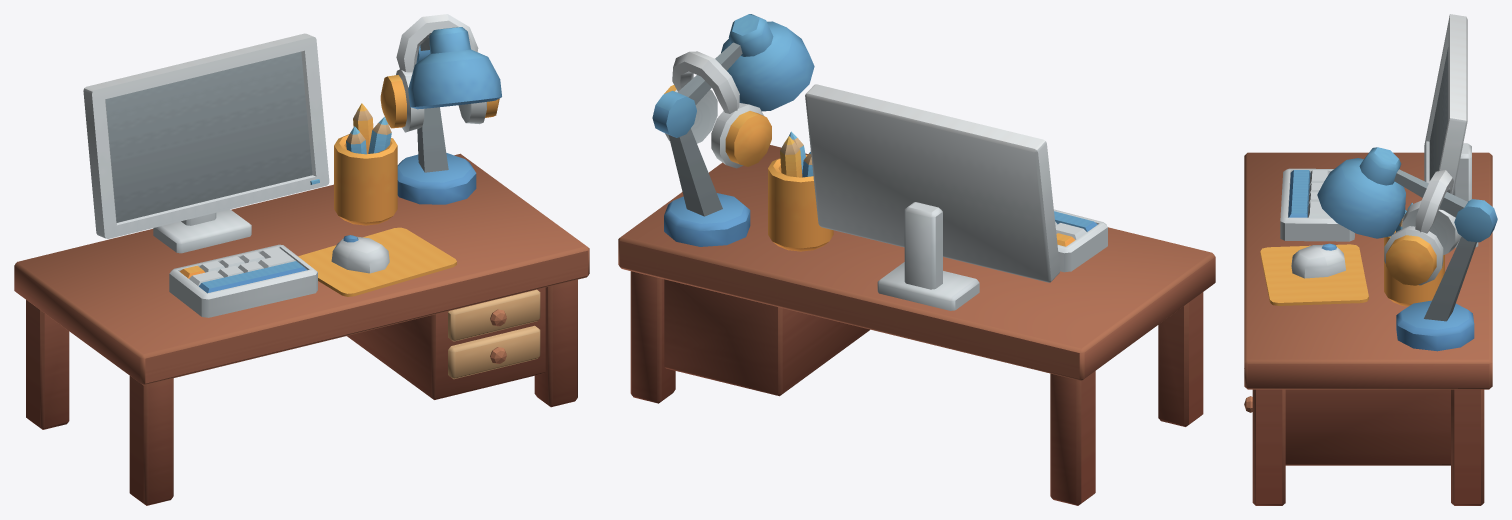
Rendered from desk-decorated.glb.
3 views of the same model, side by side, from view 1: azimuth 30°, elevation 25°; view 2: azimuth 150°, elevation 25°; view 3: azimuth 270°, elevation 25° (orthographic). The views are drawn at different scales.
Visible parts, largest first — view 1: desk_decorated; view 2: desk_decorated; view 3: desk_decorated.
Part boxes in pixels (x1,y1,x2,y2): desk_decorated: [14, 14, 589, 505]; desk_decorated: [618, 14, 1215, 505]; desk_decorated: [1244, 14, 1497, 505].
Size of the model in its own units: 3 by 2.18 by 1.53.
Materials: 1 (1 with a texture image).
